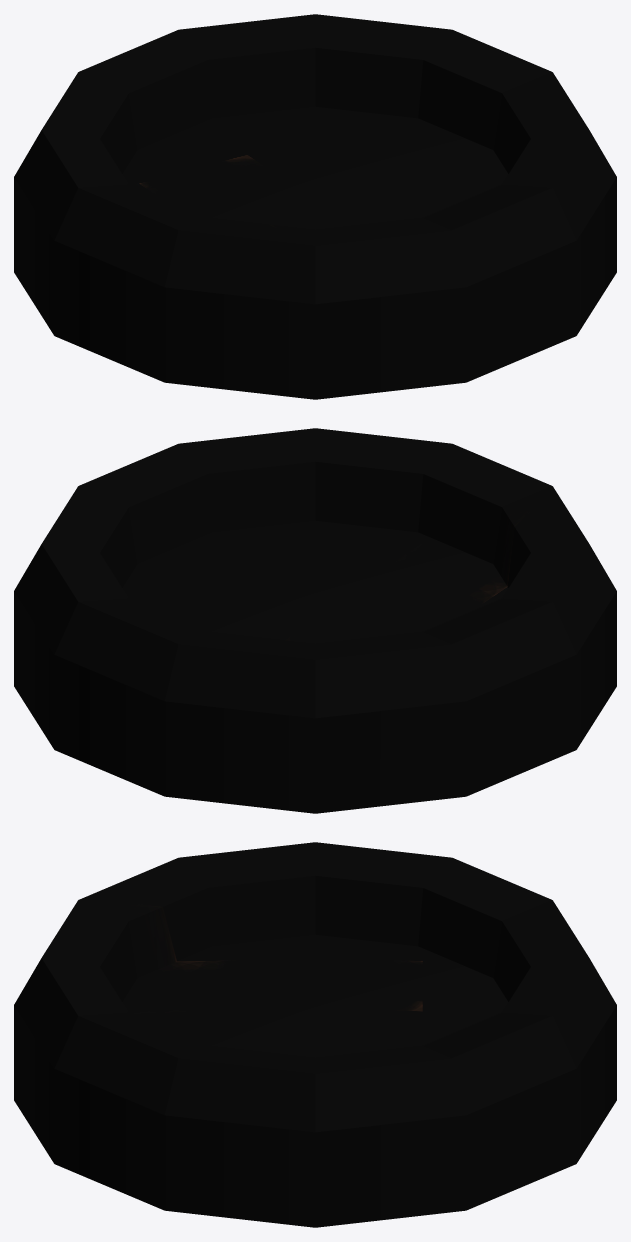
Rendered from token keyhold.FBX.
3 views of the same model, one above another, from view 1: azimuth 30°, elevation 25°; view 2: azimuth 150°, elevation 25°; view 3: azimuth 270°, elevation 25° (orthographic).
Parts seen in each view (by area): view 1: Cylinder003; view 2: Cylinder003; view 3: Cylinder003.
Part boxes in pixels (<box>): Cylinder003: <box>14,14,616,399</box>; Cylinder003: <box>14,428,616,813</box>; Cylinder003: <box>14,842,616,1227</box>.
Size of the model in its own units: 90.04 by 23.46 by 90.04.
